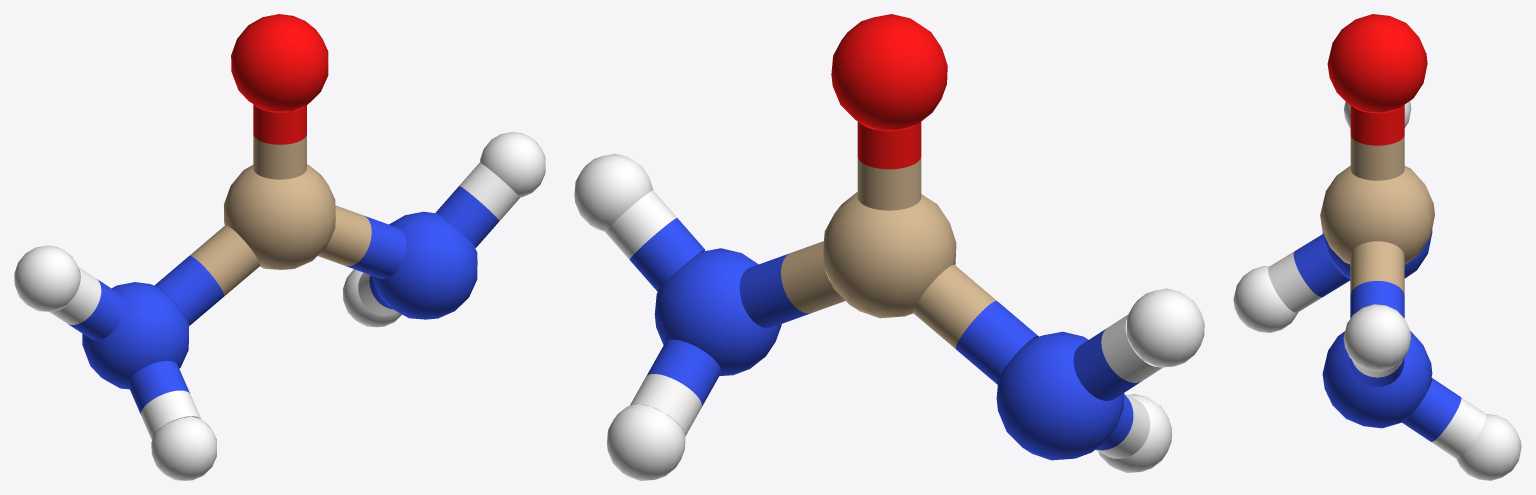
The model's file is Urea.dae.
3 renders of one model, left to right at view 1: azimuth 30°, elevation 25°; view 2: azimuth 150°, elevation 25°; view 3: azimuth 270°, elevation 25°, orthographic. The views are drawn at different scales.
Visible parts, largest first — view 1: subnode_3, subnode_2, subnode_1, subnode_0, subnode_4, subnode_5, subnode_6, subnode_9, subnode_8, subnode_14, subnode_15, subnode_16 (+9 smaller); view 2: subnode_3, subnode_0, subnode_2, subnode_1, subnode_4, subnode_7, subnode_6, subnode_9, subnode_8, subnode_15, subnode_14, subnode_16 (+10 smaller); view 3: subnode_3, subnode_2, subnode_1, subnode_6, subnode_7, subnode_5, subnode_15, subnode_18, subnode_21, subnode_12, subnode_20, subnode_19 (+4 smaller).
Boxes of the visible parts, left/top/right/bottom form: subnode_3: left=224, top=164, right=335, bottom=269; subnode_2: left=231, top=14, right=328, bottom=111; subnode_1: left=371, top=211, right=477, bottom=319; subnode_0: left=82, top=282, right=188, bottom=389; subnode_4: left=14, top=245, right=79, bottom=311; subnode_5: left=151, top=416, right=217, bottom=480; subnode_6: left=480, top=132, right=545, bottom=197; subnode_9: left=189, top=225, right=259, bottom=296; subnode_8: left=154, top=256, right=223, bottom=325; subnode_14: left=346, top=215, right=406, bottom=278; subnode_15: left=318, top=205, right=371, bottom=266; subnode_16: left=435, top=186, right=499, bottom=247; subnode_3: left=822, top=192, right=956, bottom=318; subnode_0: left=996, top=331, right=1123, bottom=460; subnode_2: left=831, top=14, right=947, bottom=130; subnode_1: left=654, top=248, right=781, bottom=375; subnode_4: left=1126, top=288, right=1204, bottom=367; subnode_7: left=607, top=403, right=685, bottom=480; subnode_6: left=574, top=154, right=652, bottom=231; subnode_9: left=913, top=265, right=996, bottom=348; subnode_8: left=955, top=301, right=1038, bottom=384; subnode_15: left=781, top=241, right=845, bottom=313; subnode_14: left=739, top=253, right=811, bottom=328; subnode_16: left=629, top=218, right=704, bottom=291; subnode_3: left=1320, top=166, right=1434, bottom=264; subnode_2: left=1327, top=14, right=1427, bottom=112; subnode_1: left=1322, top=331, right=1432, bottom=428; subnode_6: left=1343, top=304, right=1411, bottom=371; subnode_7: left=1456, top=414, right=1521, bottom=480; subnode_5: left=1233, top=266, right=1298, bottom=332; subnode_15: left=1350, top=241, right=1404, bottom=295; subnode_18: left=1402, top=378, right=1461, bottom=441; subnode_21: left=1350, top=135, right=1404, bottom=180; subnode_12: left=1293, top=234, right=1350, bottom=297; subnode_20: left=1350, top=105, right=1404, bottom=145; subnode_19: left=1431, top=397, right=1486, bottom=458.
Size of the model in its own units: 4.5 by 3.14 by 2.13.
